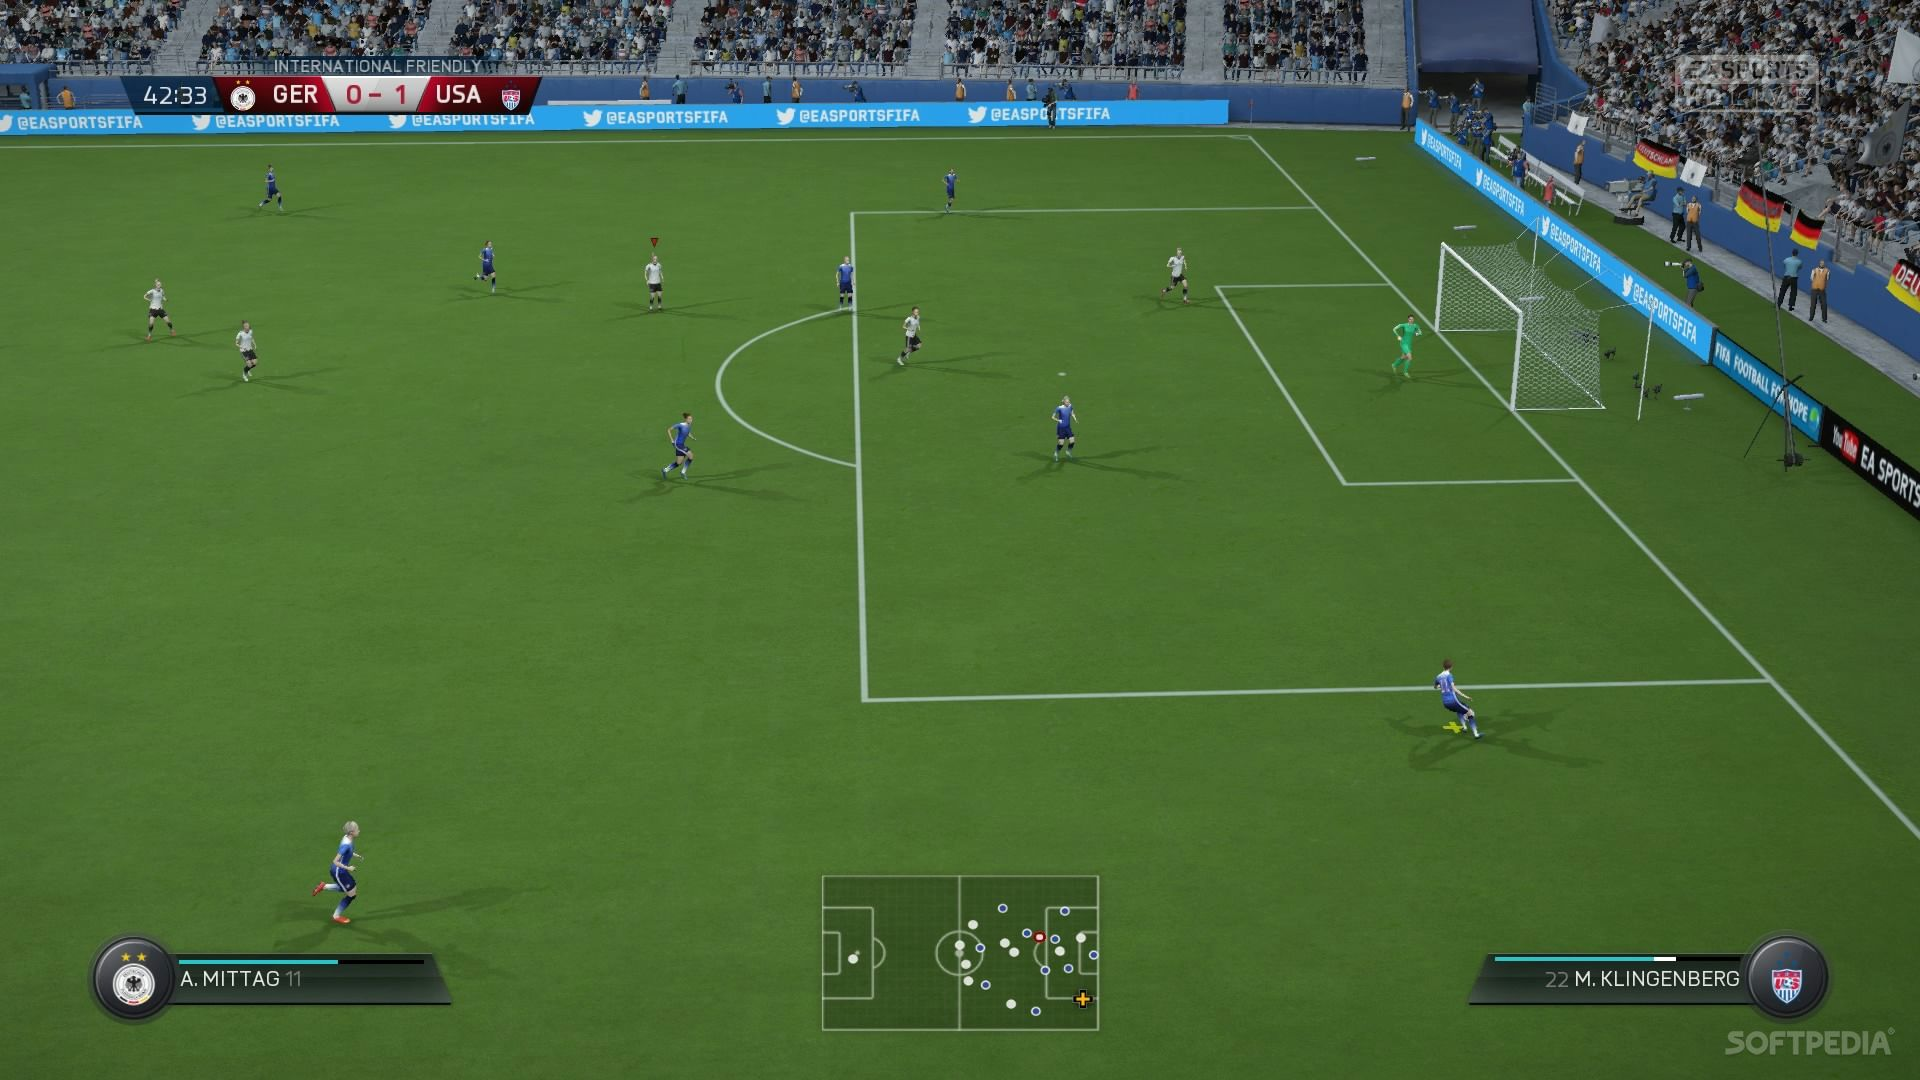goal: (1431, 236, 1649, 421)
player: (324, 811, 366, 924), (1433, 659, 1487, 746), (658, 403, 705, 481), (133, 270, 177, 341), (1049, 385, 1086, 459), (226, 318, 264, 390), (1160, 236, 1200, 304), (827, 249, 863, 314), (466, 240, 508, 294), (641, 249, 675, 311), (1393, 308, 1422, 379), (899, 307, 931, 369), (937, 168, 971, 215), (258, 165, 289, 211)
